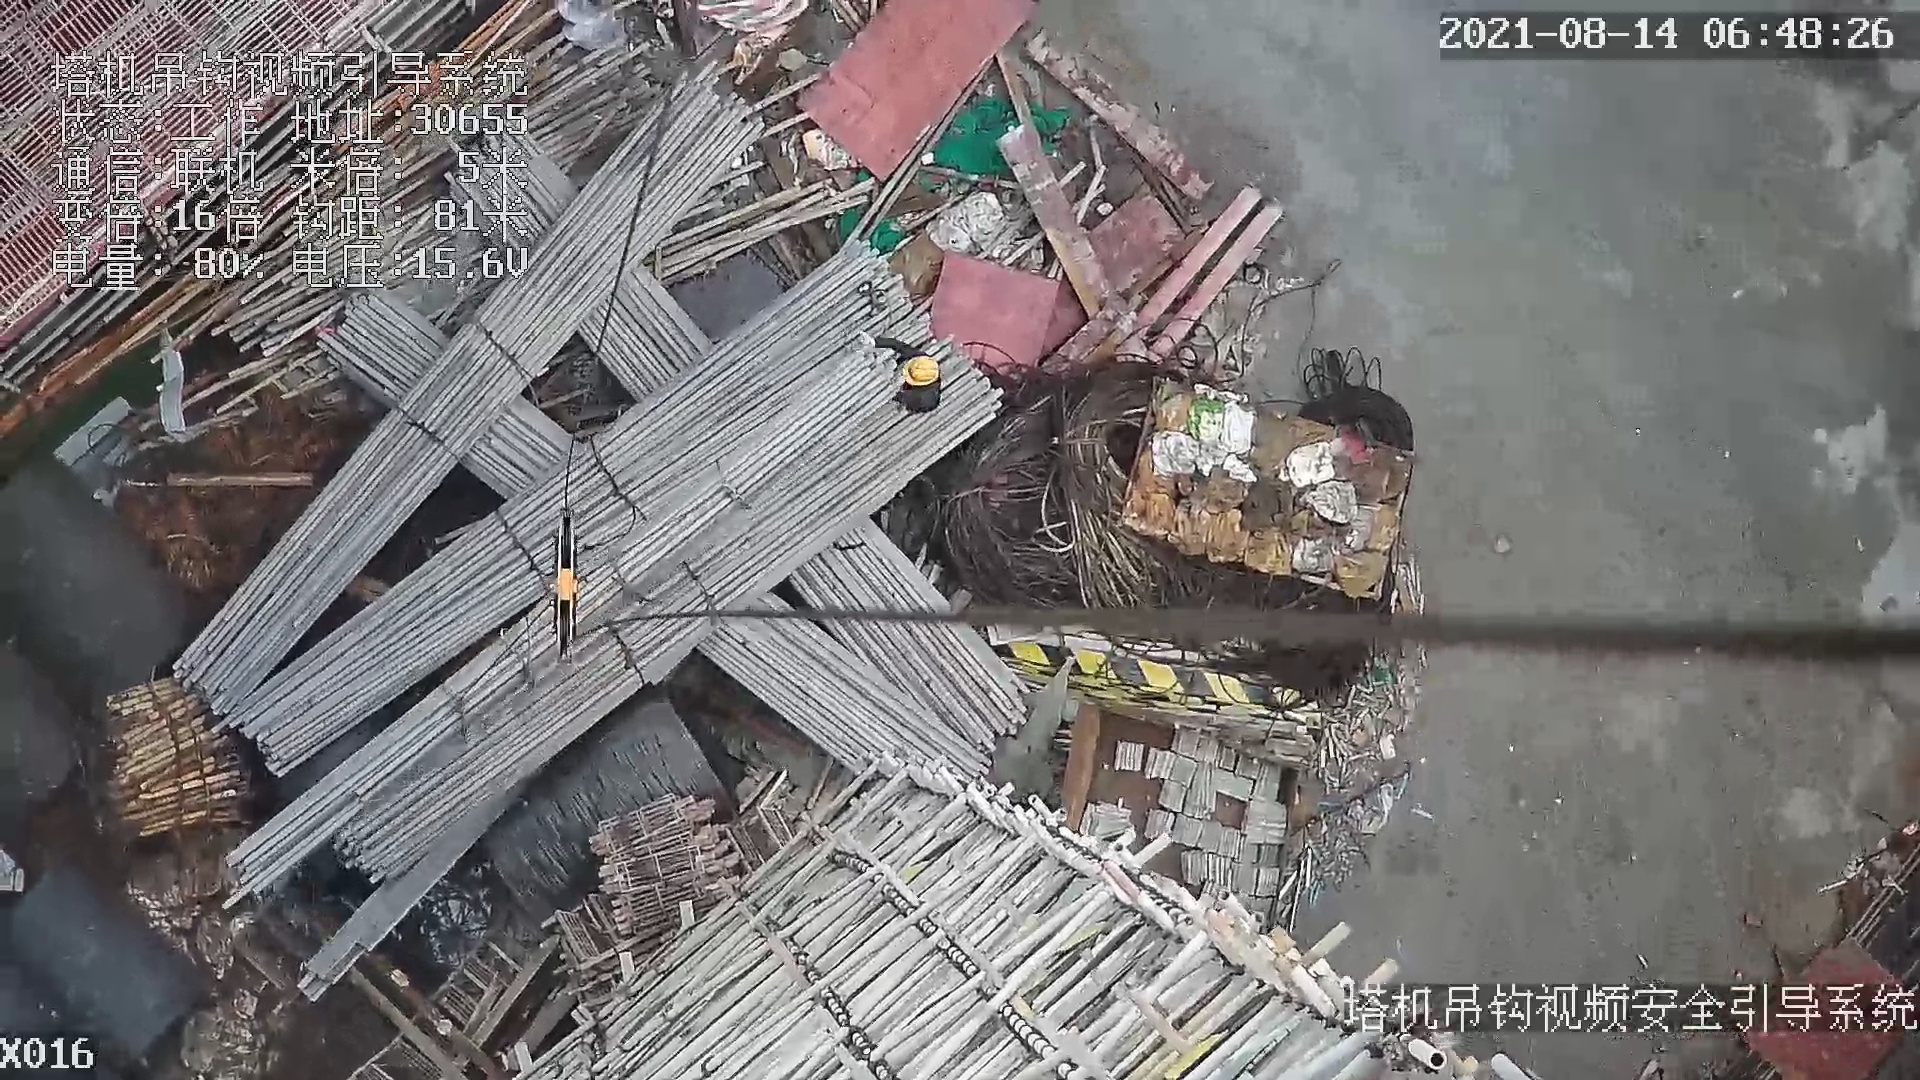board: (797, 4, 1037, 185)
helmet: (900, 354, 938, 383)
hook: (544, 503, 587, 663)
person: (844, 319, 950, 413)
scaffold: (97, 674, 267, 832)
